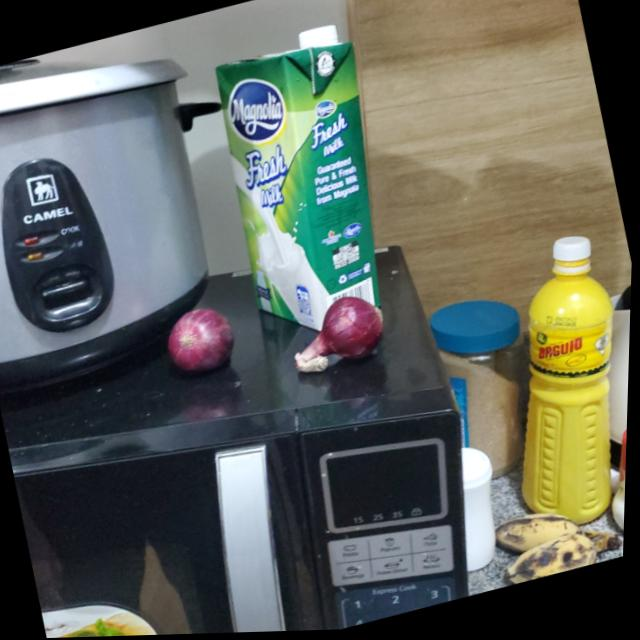milk: (203, 14, 420, 344)
onion: (286, 296, 395, 384), (165, 303, 243, 377)
